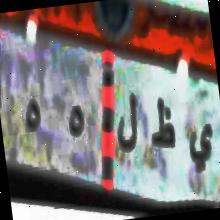5: (65, 95, 88, 143), (21, 96, 46, 139)
Thaa: (145, 92, 180, 156)
laam: (111, 86, 146, 160)
yaa: (183, 112, 218, 176)
